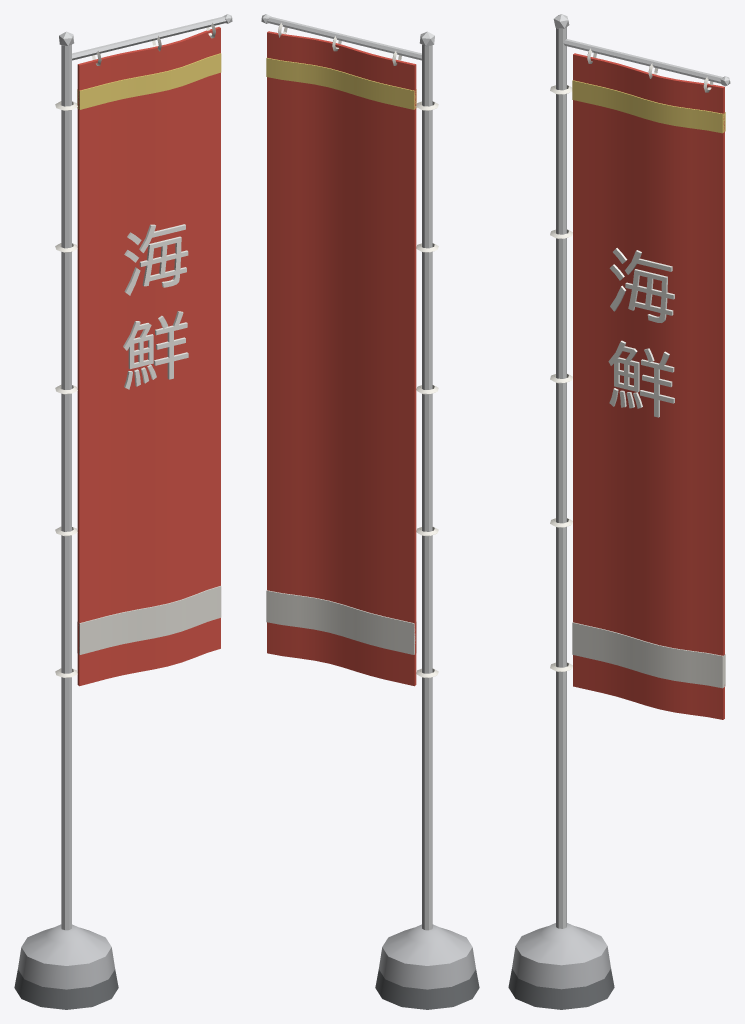
File: nobori.glb
3 views of the same model, side by side, from view 1: azimuth 30°, elevation 25°; view 2: azimuth 150°, elevation 25°; view 3: azimuth 330°, elevation 25° (orthographic).
Visible parts, largest first — view 1: nobori_body; view 2: nobori_body; view 3: nobori_body.
Boxes of the visible parts, box(x1,y1,x2,y2) form: nobori_body: box(14, 14, 232, 1009); nobori_body: box(261, 14, 479, 1009); nobori_body: box(508, 14, 730, 1009).
Size of what is drawn, in the model's own units: 0.6993 by 3.04 by 0.3.
